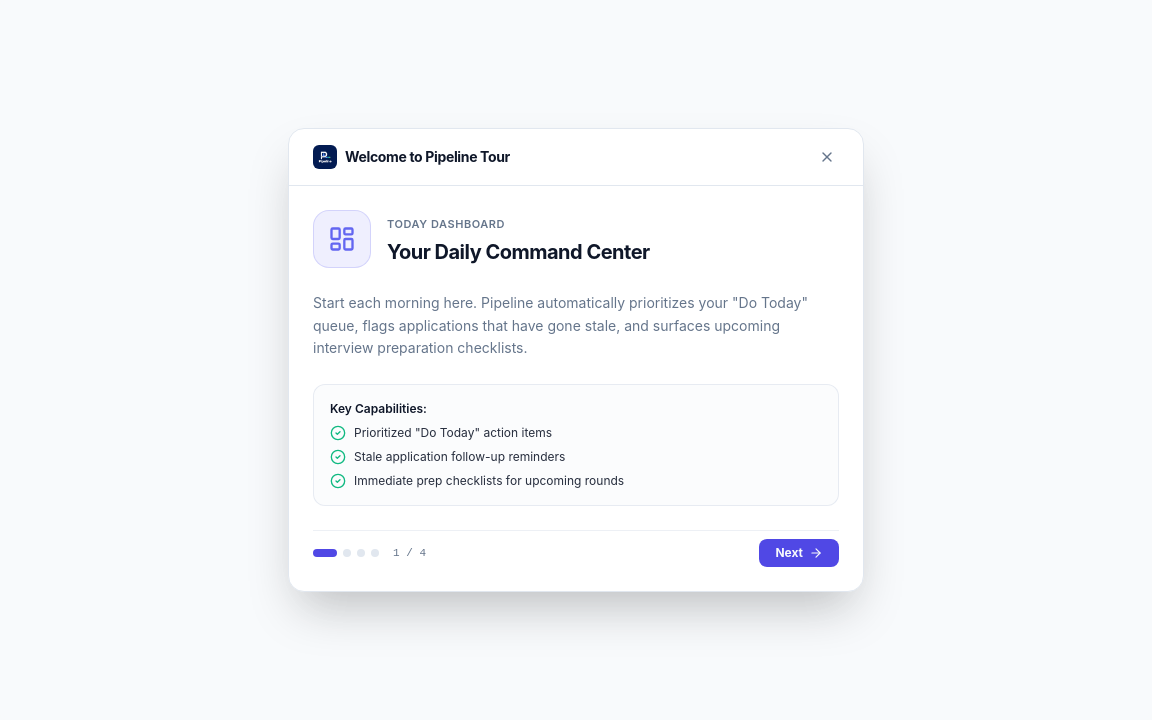
Test: AppTourModal › renders tour slides and allows stepping forward and backward
Check: the heading "Your Daily Command Center" is shown, box top-left (387, 238), bottom-right (650, 266)
Check: the text "Do Today" is shown, box top-left (313, 294), bottom-right (808, 356)
Step 1. Click the button "Next" → (799, 553), box top-left (759, 539), bottom-right (839, 567)
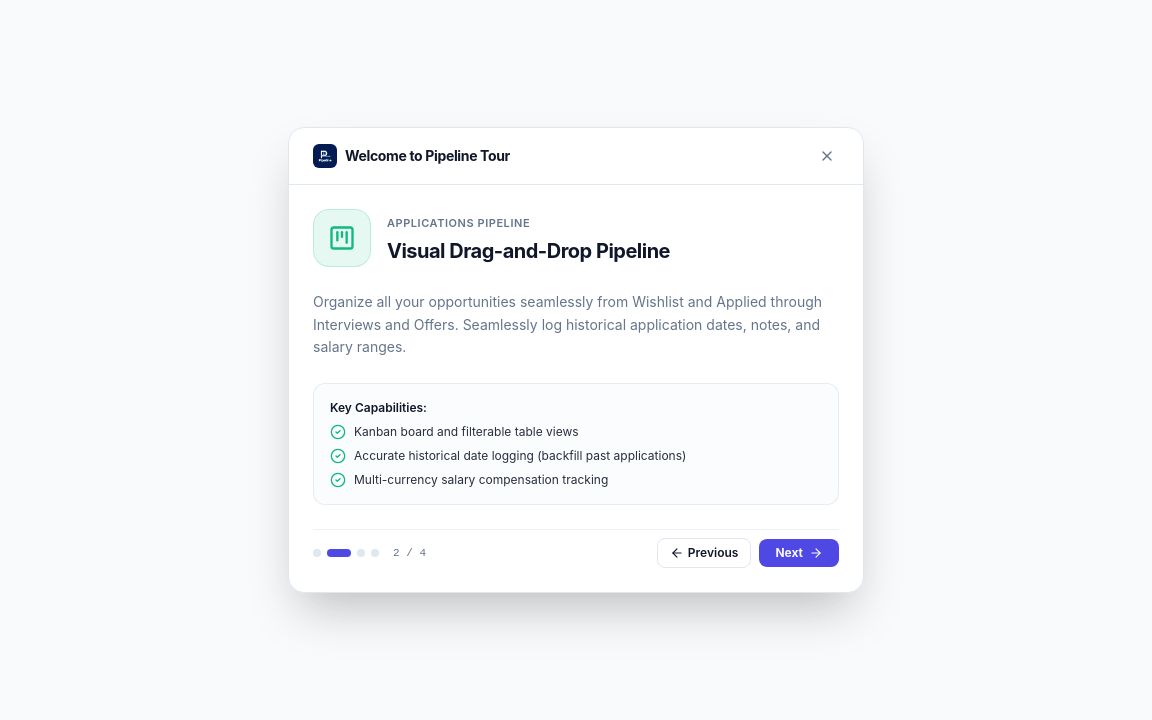
Check: the heading "Visual Drag-and-Drop Pipeline" is shown, box top-left (387, 237), bottom-right (670, 265)
Step 2. Click the button "Previous" → (704, 553), box top-left (657, 538), bottom-right (751, 568)
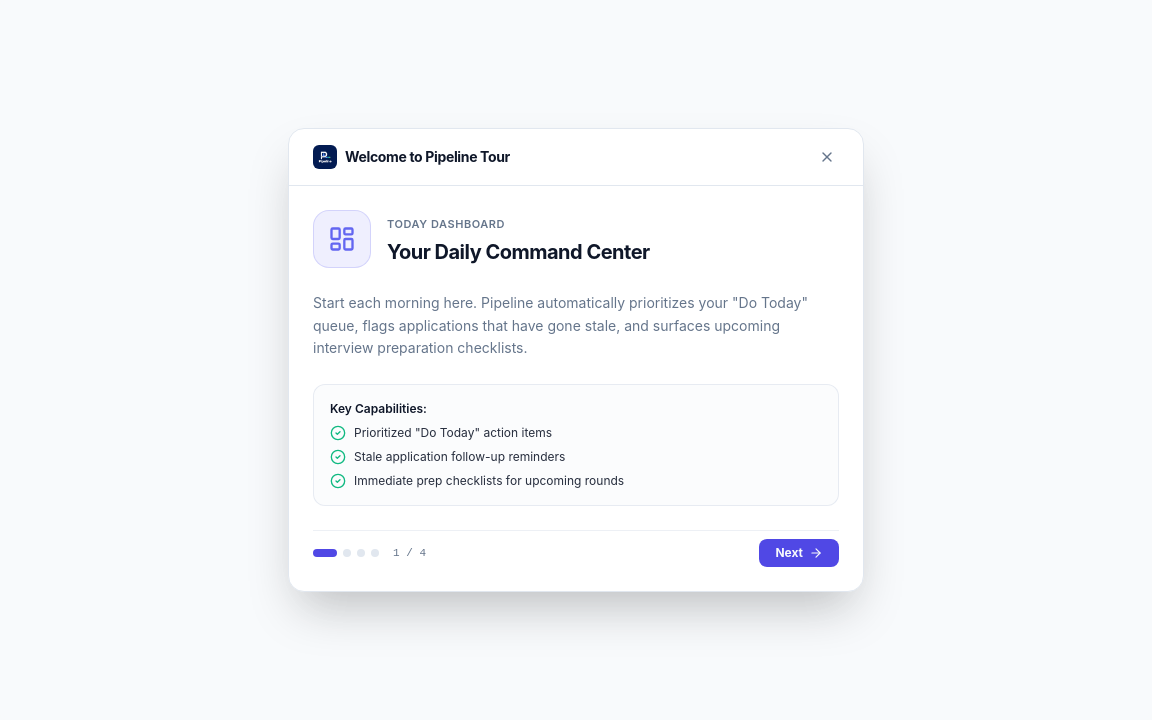
Check: the heading "Your Daily Command Center" is shown, box top-left (387, 238), bottom-right (650, 266)
